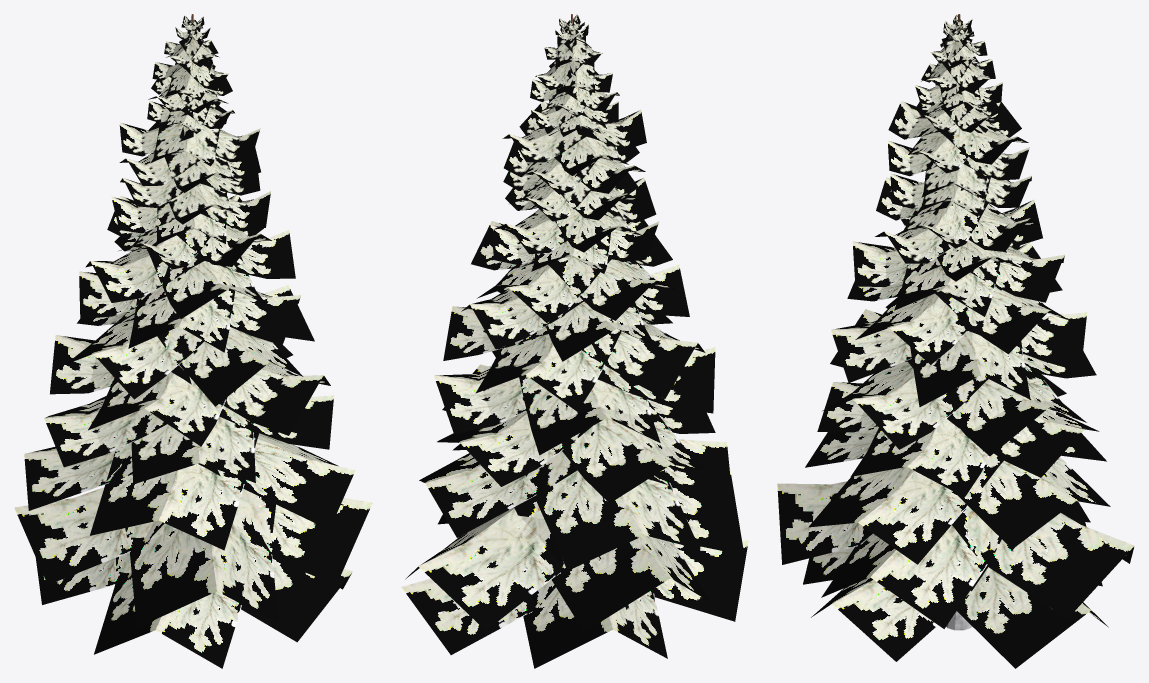
The model's file is Дерево2.fbx.
3 views of the same model, side by side, from view 1: azimuth 30°, elevation 25°; view 2: azimuth 150°, elevation 25°; view 3: azimuth 270°, elevation 25° (orthographic).
Parts seen in each view (by area): view 1: Cylinder; view 2: Cylinder; view 3: Cylinder.
Part boxes in pixels (x1=…): Cylinder: x1=14, y1=14, x2=372, y2=668; Cylinder: x1=401, y1=14, x2=748, y2=668; Cylinder: x1=777, y1=14, x2=1134, y2=668.
Bounding box in the file's own units: 2691 × 5462 × 2896.
